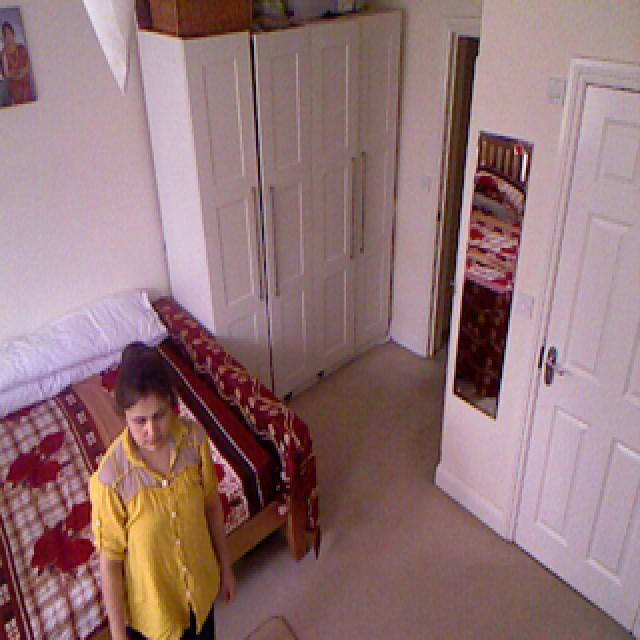standing: (84, 320, 236, 640)
